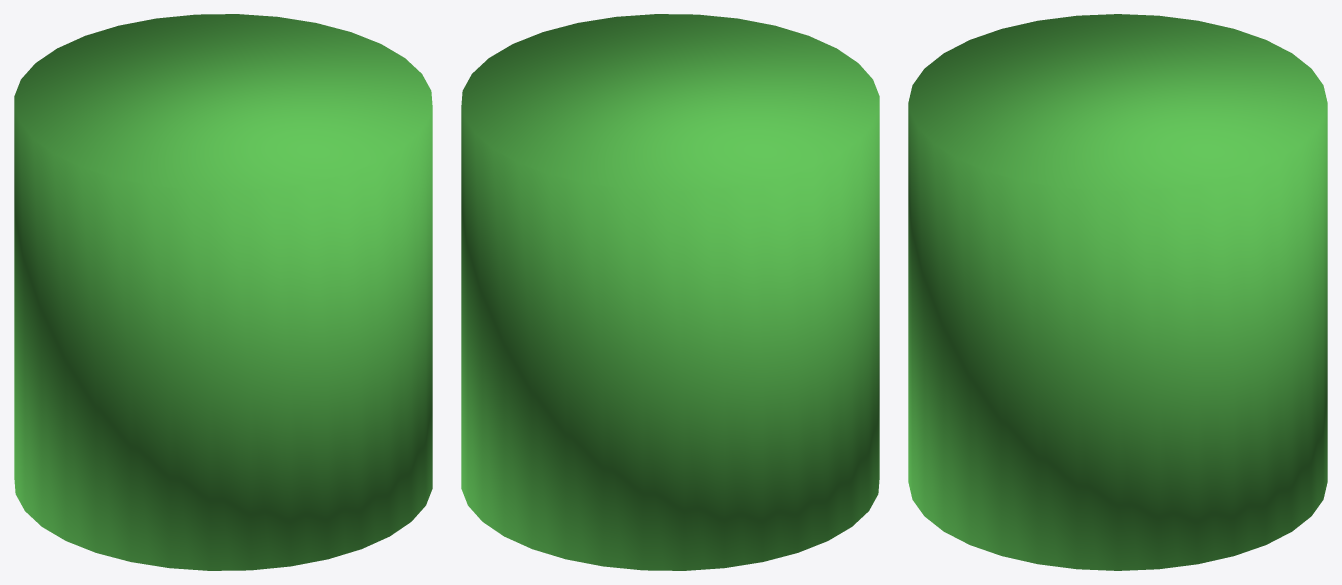
3 renders of one model, left to right at view 1: azimuth 30°, elevation 25°; view 2: azimuth 150°, elevation 25°; view 3: azimuth 270°, elevation 25°, orthographic.
Parts seen in each view (by area): view 1: Cylinder; view 2: Cylinder; view 3: Cylinder.
Part boxes in pixels (x1,y1,x2,y2): Cylinder: [14, 14, 432, 570]; Cylinder: [461, 14, 879, 570]; Cylinder: [908, 14, 1327, 570].
Size of the model in its own units: 2 by 2 by 2.
